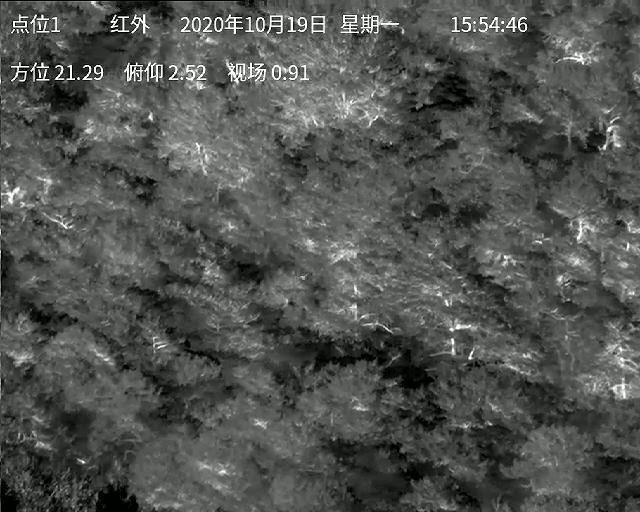uav: (296, 272, 309, 283)
